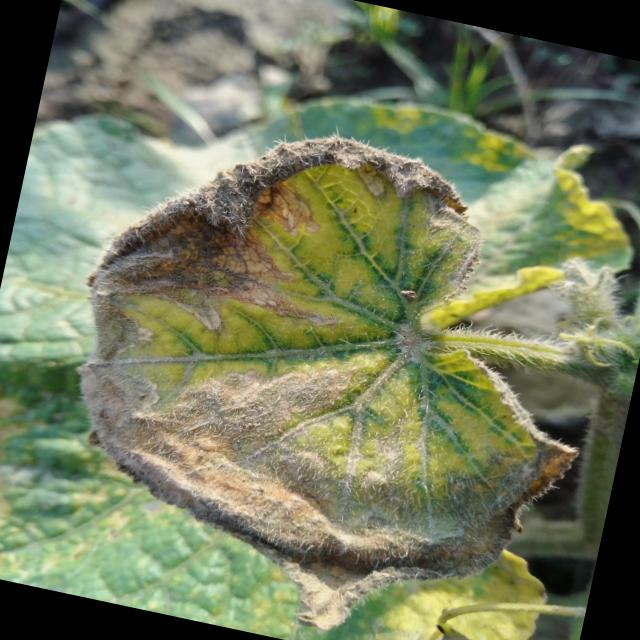cucumber_gummy: (23, 88, 638, 640)
